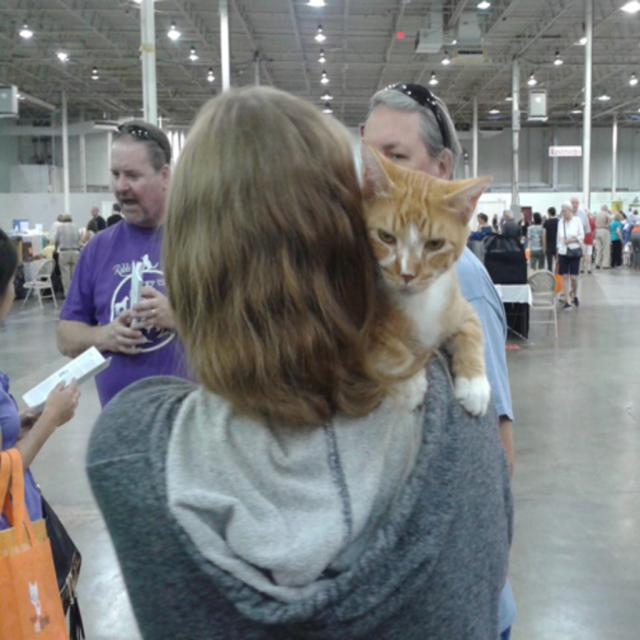Cat: (362, 137, 489, 423)
